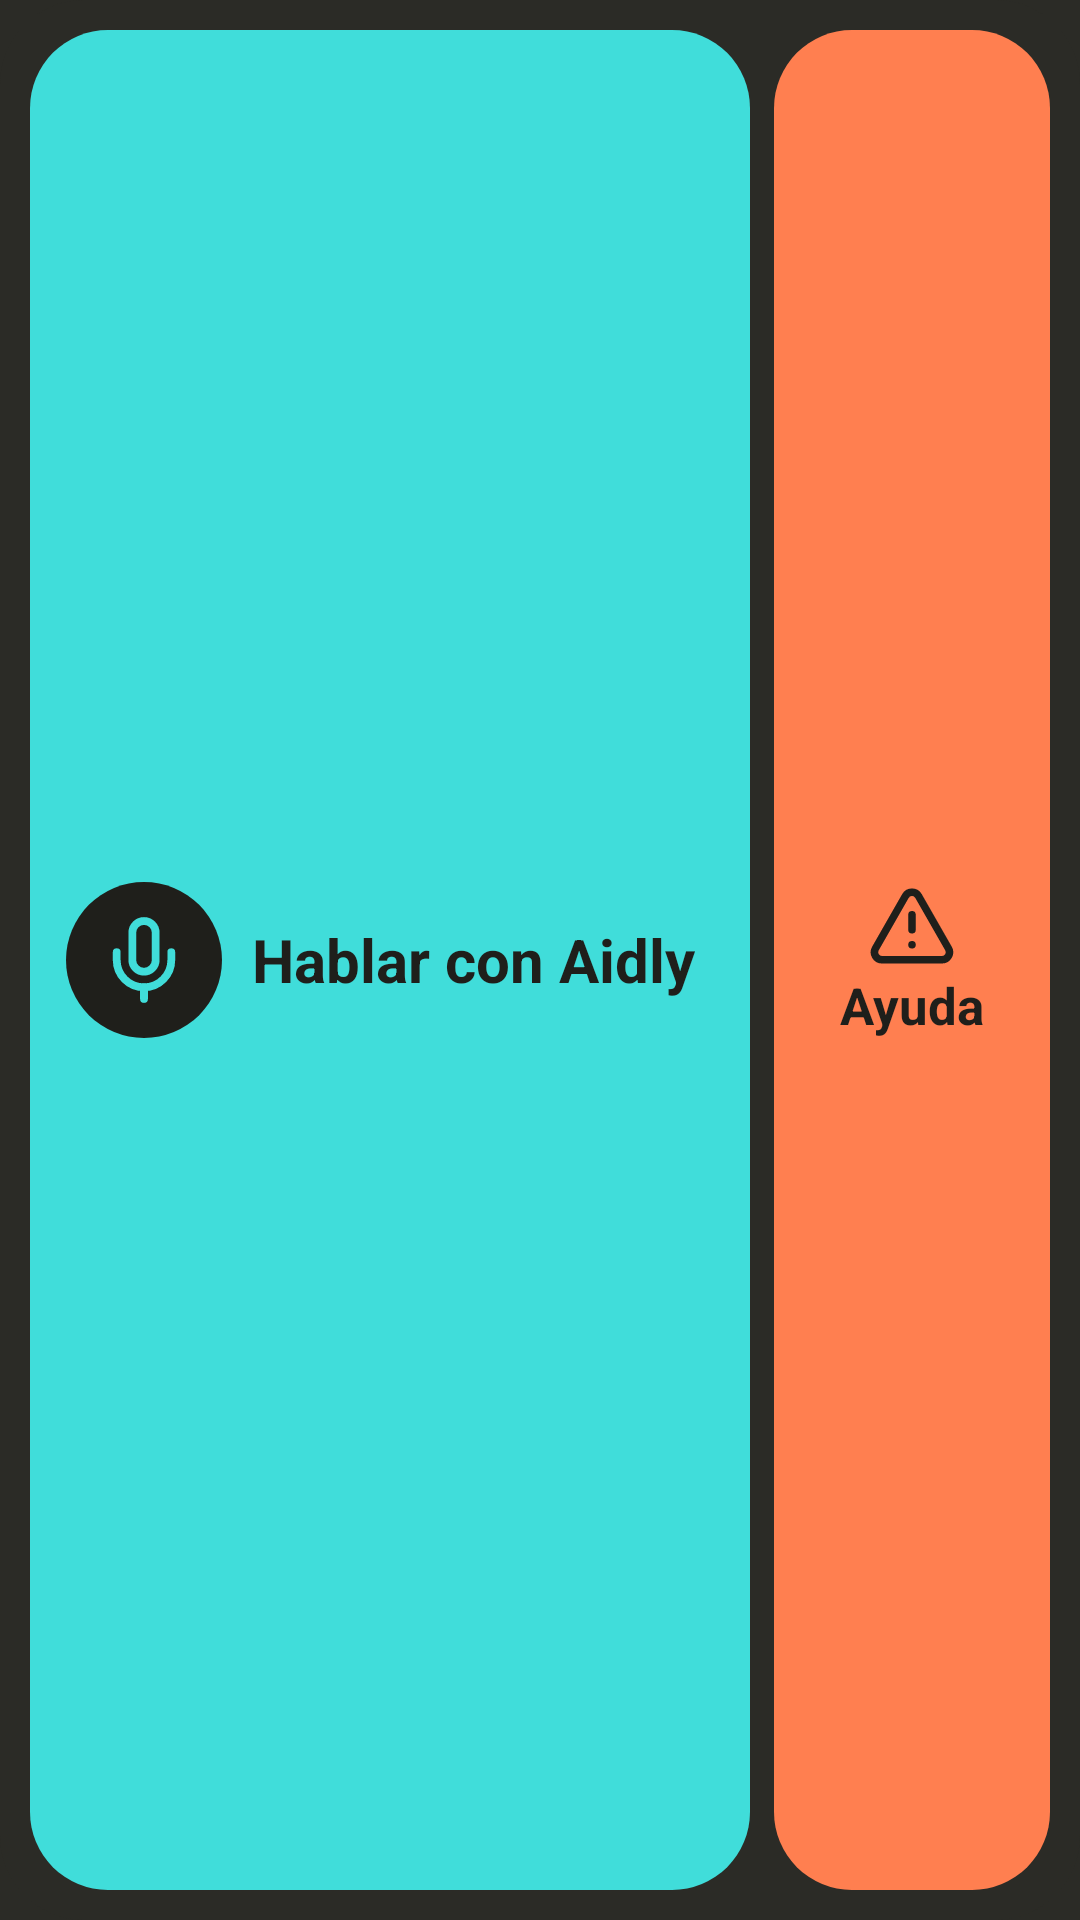

Screen size 1080x1920. Icon name, then its box in pixels as (x1, y1, x2, y2):
alert: (870, 888, 954, 964)
mic: (66, 882, 222, 1038)
